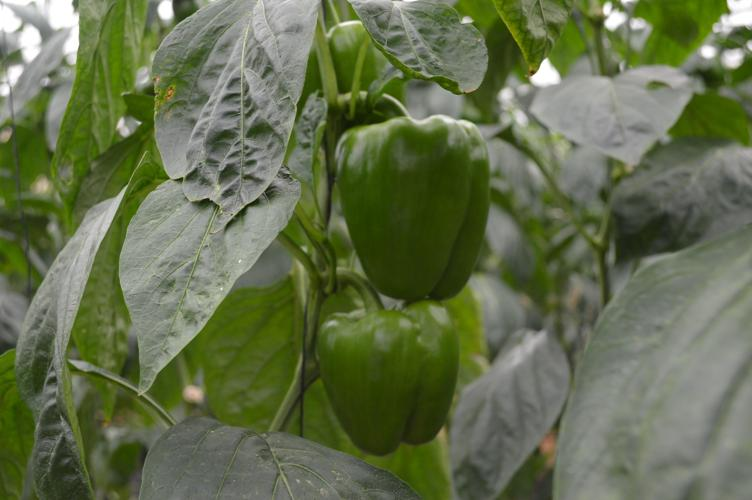BellPepper: (338, 115, 495, 310), (325, 310, 467, 481), (313, 20, 420, 122)
